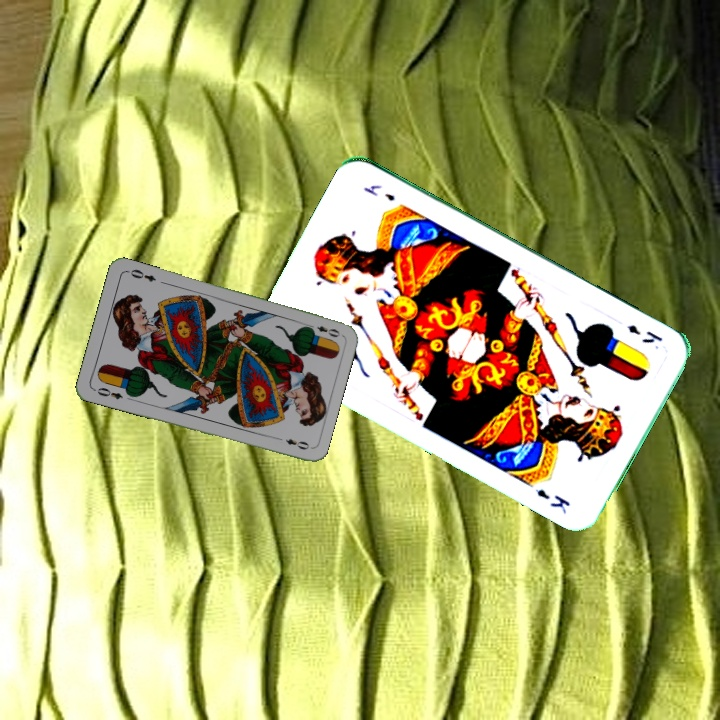EK: (623, 320, 666, 346)
EO: (303, 320, 342, 340), (90, 383, 125, 402)
